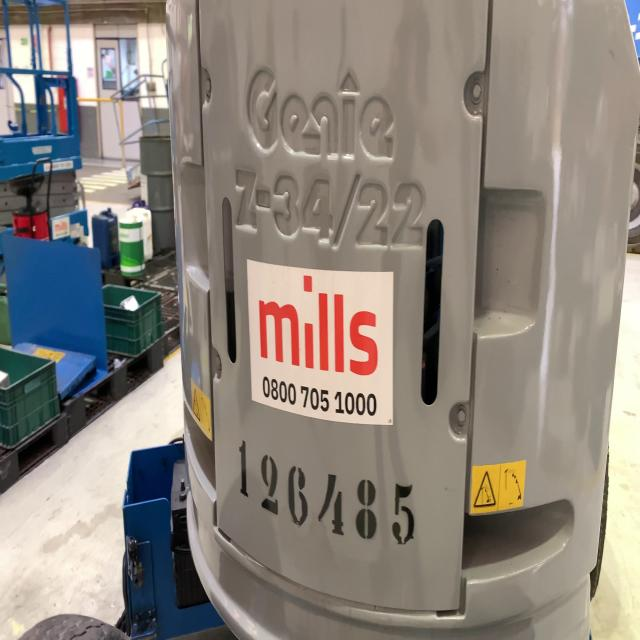Adesivos: (246, 260, 397, 432)
